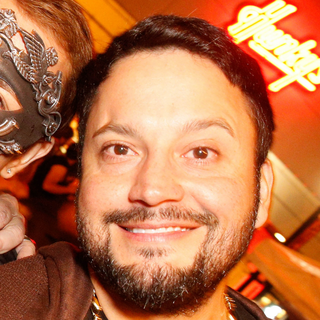eye: (177, 142, 224, 165), (98, 140, 141, 162)
